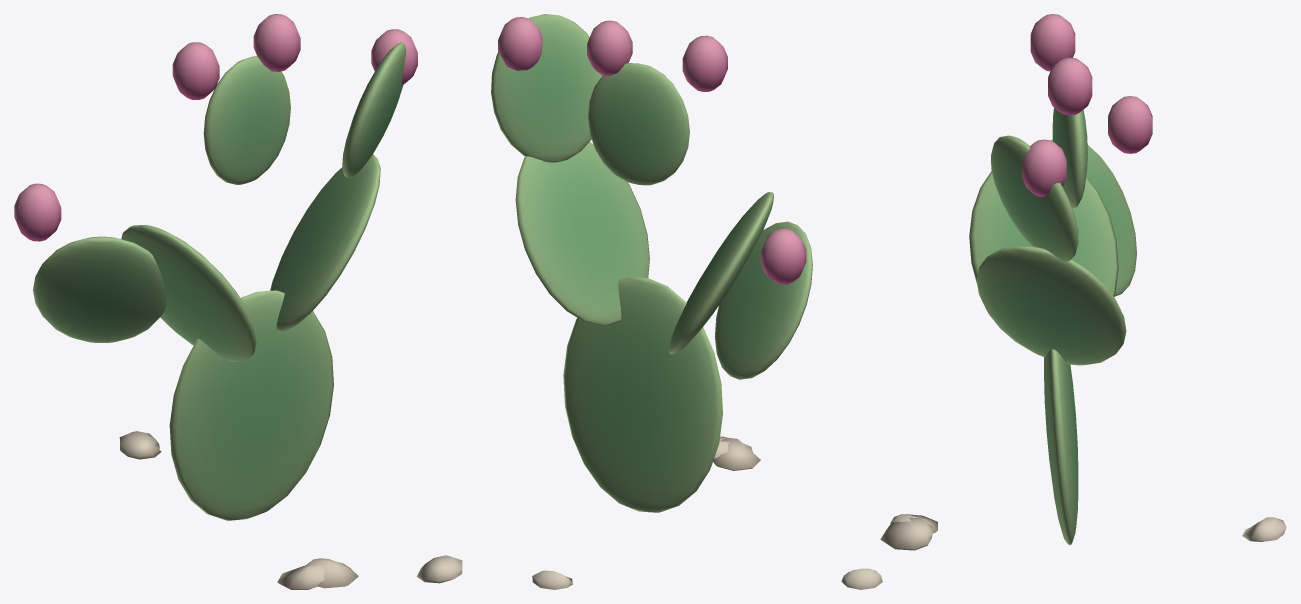
Rendered from cactus_pear.glb.
3 renders of one model, left to right at view 1: azimuth 30°, elevation 25°; view 2: azimuth 150°, elevation 25°; view 3: azimuth 270°, elevation 25°, orthographic. The views are drawn at different scales.
Visible parts, largest first — view 1: body; view 2: body; view 3: body.
Part boxes in pixels (bbox=[...]): body: bbox=[14, 14, 462, 589]; body: bbox=[491, 14, 812, 589]; body: bbox=[841, 14, 1286, 589].
Bounding box in the file's own units: 0.4746 × 0.635 × 0.5185.
